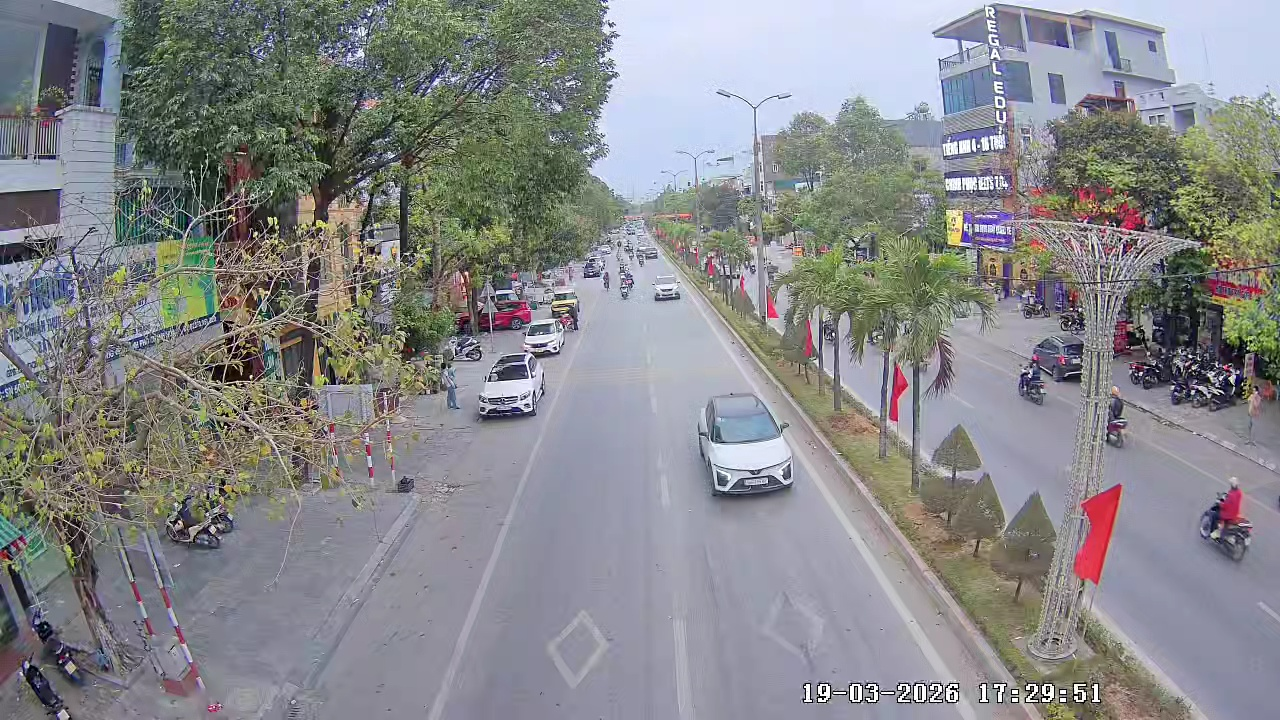car: (695, 392, 794, 497), (475, 353, 547, 418), (523, 313, 565, 356), (652, 279, 680, 303)
motorbike: (1197, 476, 1256, 563), (165, 490, 224, 549), (1104, 391, 1131, 450), (448, 323, 484, 364), (619, 272, 634, 300)
